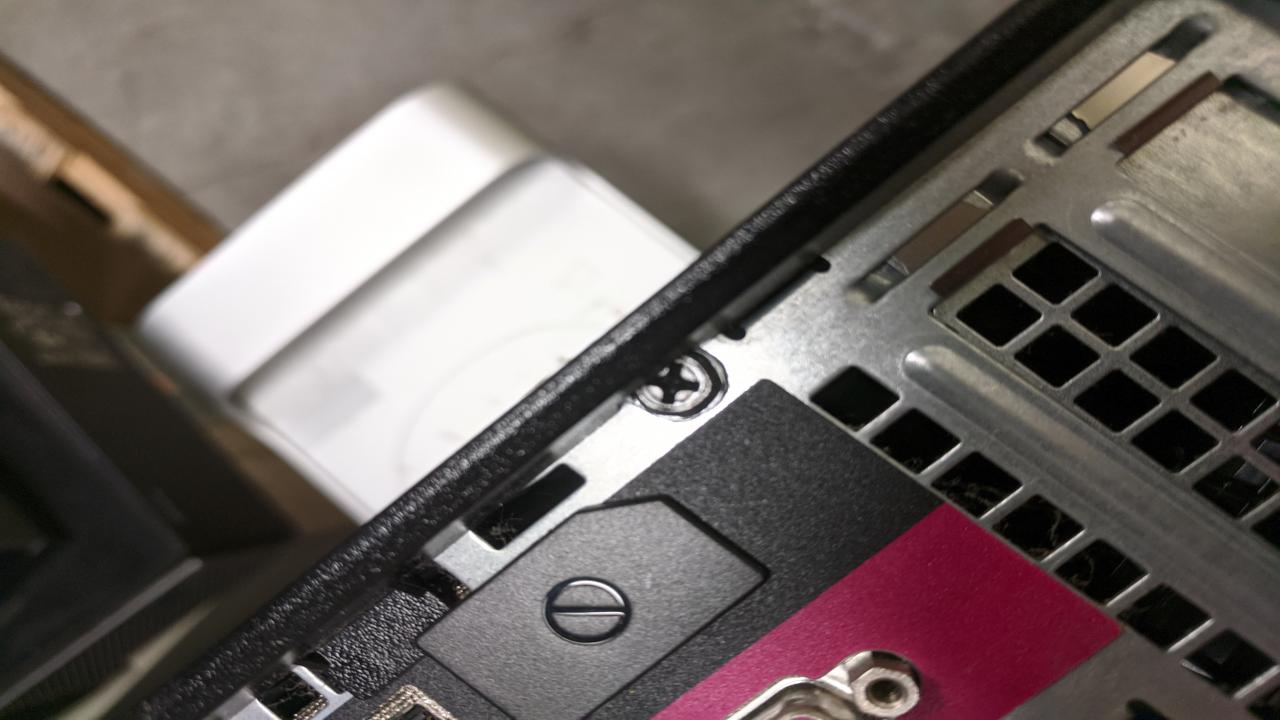CRS: (630, 348, 730, 418)
